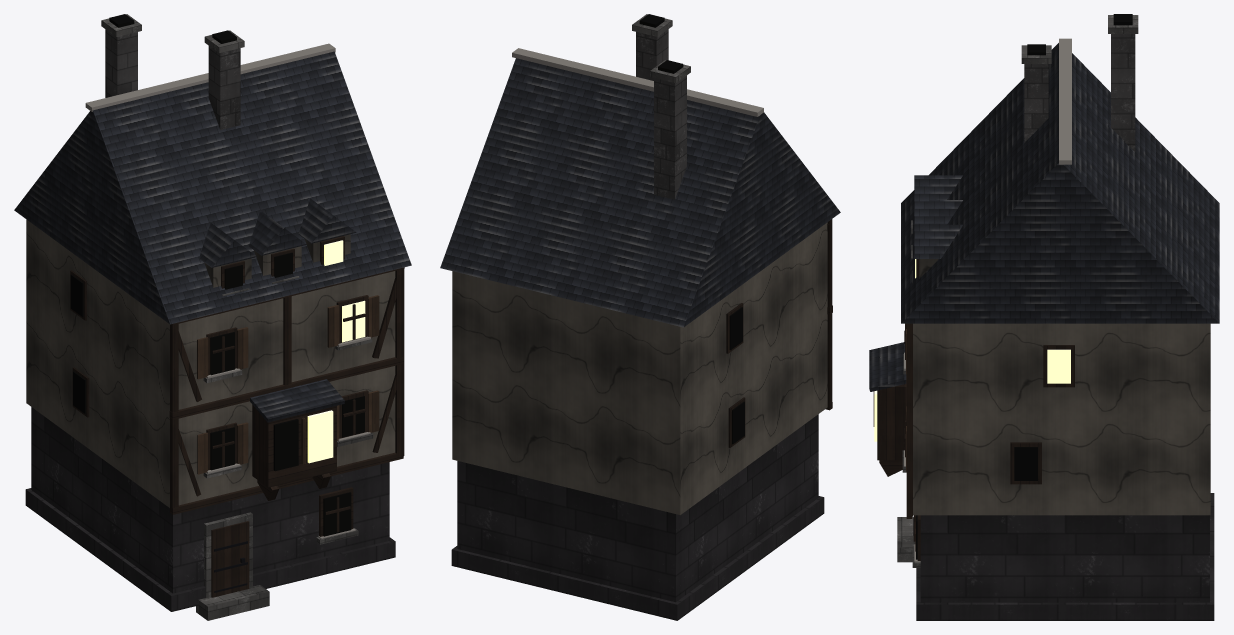
The model's file is CasaB09.gltf.
The picture shows the model from 3 angles, left to right: view 1: azimuth 30°, elevation 25°; view 2: azimuth 150°, elevation 25°; view 3: azimuth 270°, elevation 25°; orthographic projection. The views are drawn at different scales.
Parts seen in each view (by area): view 1: CasaB09; view 2: CasaB09; view 3: CasaB09.
Part boxes in pixels (<box>): CasaB09: <box>14,14,411,620</box>; CasaB09: <box>440,14,840,620</box>; CasaB09: <box>869,14,1219,620</box>.
Bounding box in the file's own units: 8.57 × 17.29 × 10.45.
11 materials, 7 textured.
